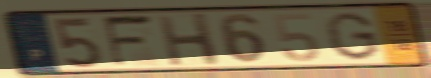5: (50, 15, 106, 69), (269, 11, 321, 63)
6: (217, 12, 268, 66)
F: (100, 13, 158, 70)
G: (322, 10, 383, 62)
H: (155, 11, 223, 68)
